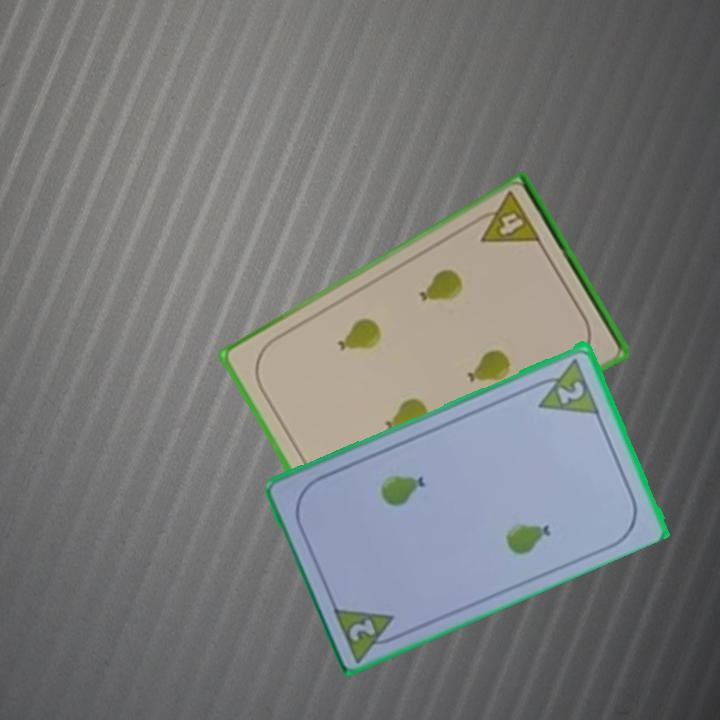2p: (329, 601, 406, 663), (554, 376, 588, 407)
4p: (468, 188, 544, 247)
